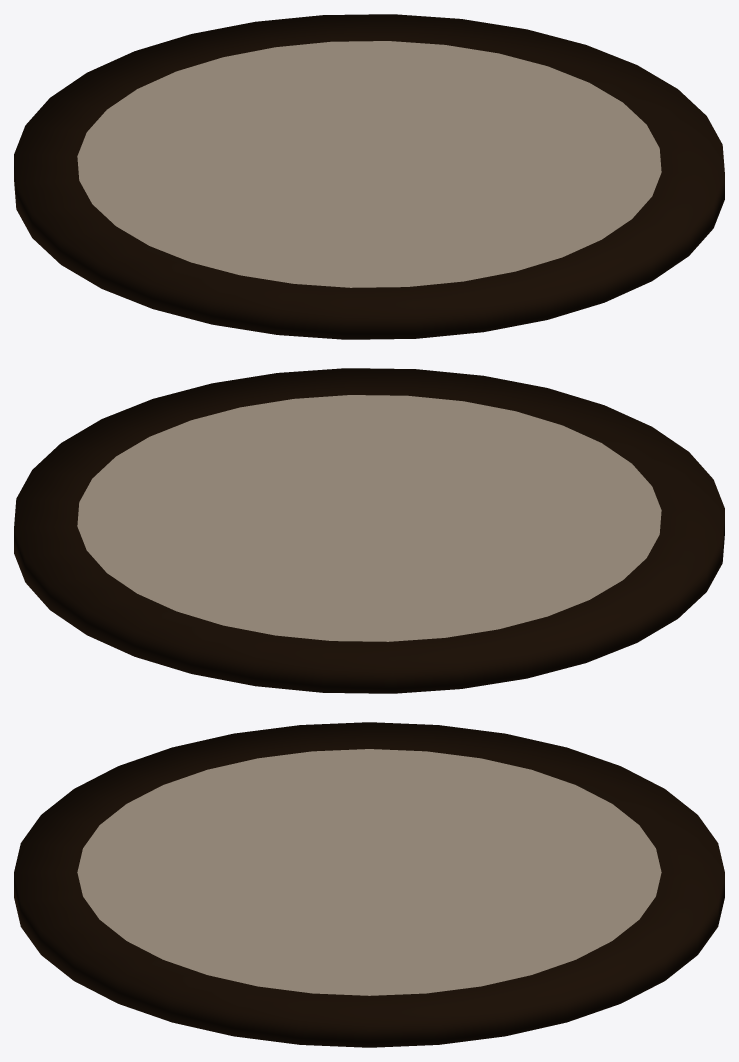
Rendered from Elevator_Left.glb.
3 renders of one model, top to bottom at view 1: azimuth 30°, elevation 25°; view 2: azimuth 150°, elevation 25°; view 3: azimuth 270°, elevation 25°, orthographic.
Parts seen in each view (by area): view 1: Elevator_Left; view 2: Elevator_Left; view 3: Elevator_Left.
Boxes of the visible parts, box(x1,y1,x2,y2) form: Elevator_Left: box(14, 14, 724, 339); Elevator_Left: box(14, 368, 724, 693); Elevator_Left: box(14, 722, 724, 1047).
Size of what is drawn, in the model's own units: 3.32 by 0.1297 by 3.32.
Materials: 1 (1 with a texture image).
